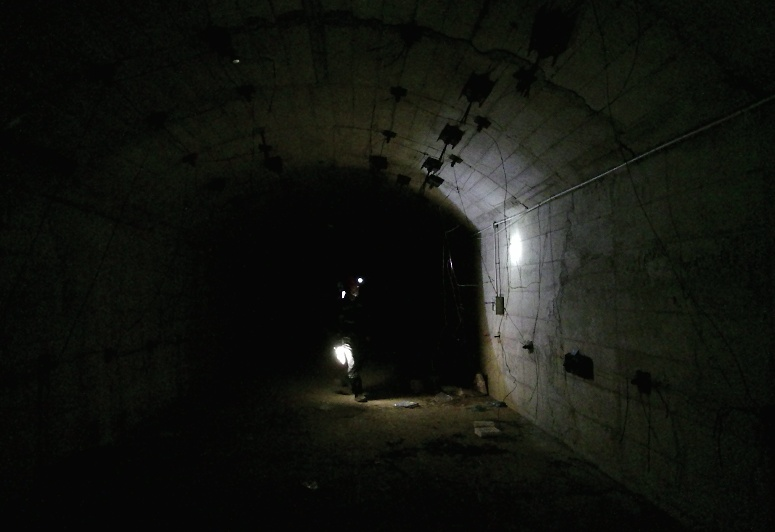person: (320, 276, 378, 407)
